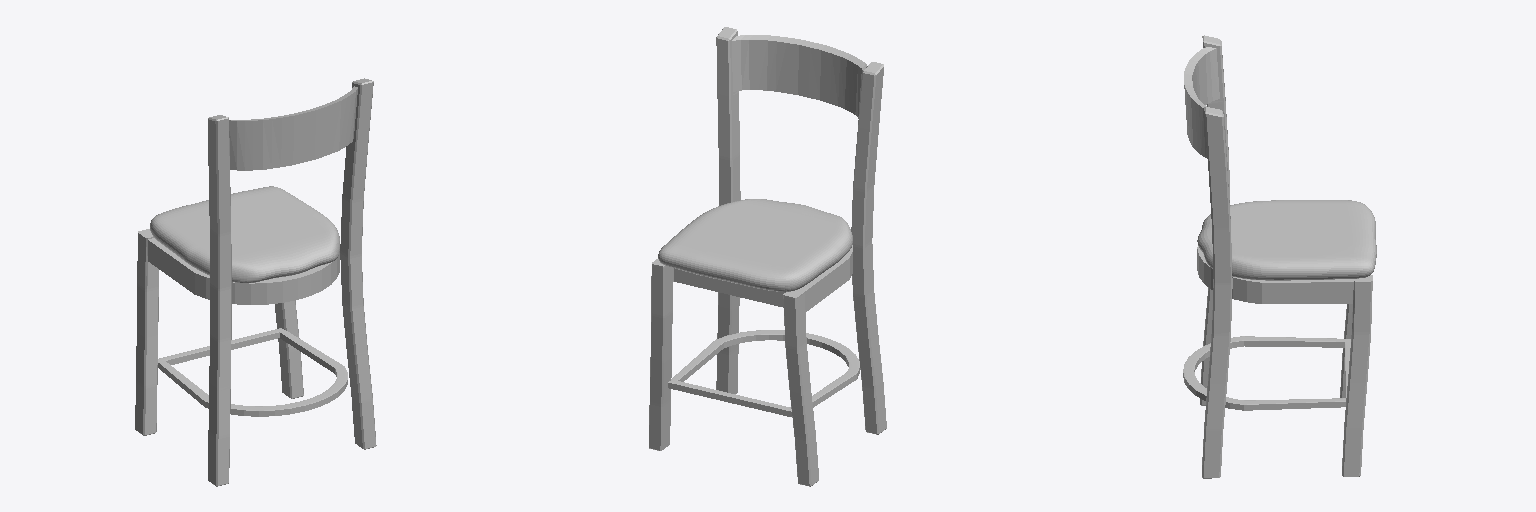
File: Chair.obj
The picture shows the model from 3 angles: view 1: azimuth 30°, elevation 25°; view 2: azimuth 150°, elevation 25°; view 3: azimuth 270°, elevation 25°; orthographic projection.
Parts seen in each view (by area): view 1: Chair_Chair; view 2: Chair_Chair; view 3: Chair_Chair.
Part boxes in pixels (bbox=[...]): Chair_Chair: bbox=[135, 78, 376, 486]; Chair_Chair: bbox=[649, 27, 886, 486]; Chair_Chair: bbox=[1183, 35, 1376, 478].
Bounding box in the file's own units: 0.4744 × 1.01 × 0.4834.